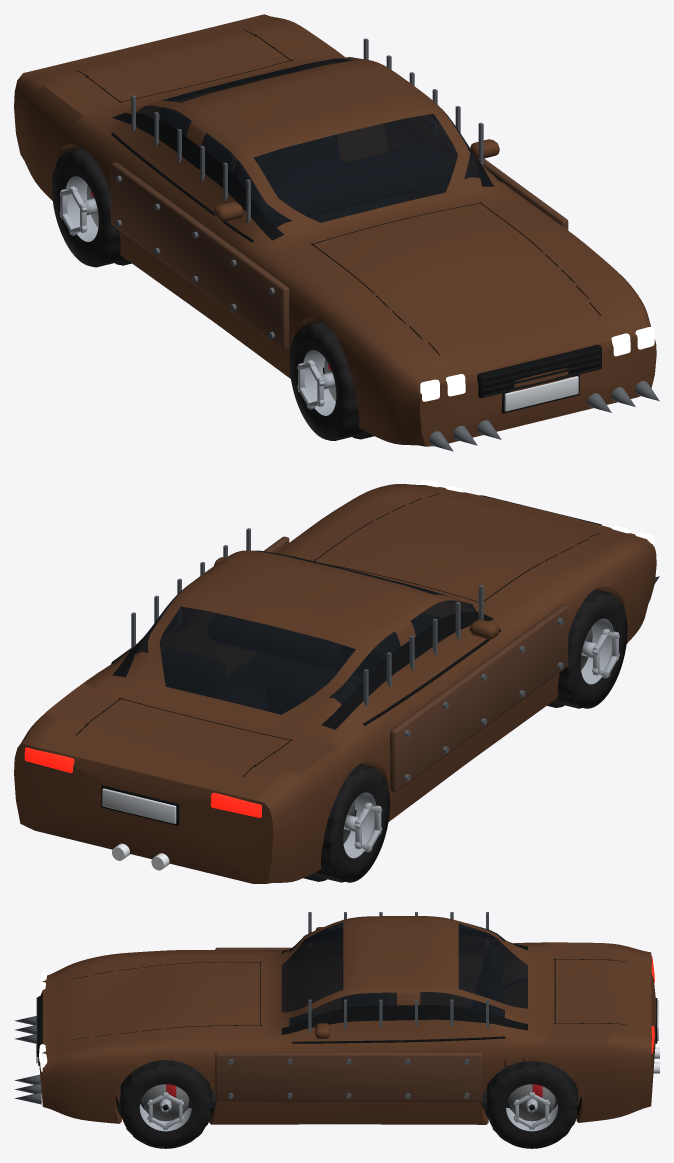
Rendered from armored-muscle.glb.
3 renders of one model, top to bottom at view 1: azimuth 30°, elevation 25°; view 2: azimuth 150°, elevation 25°; view 3: azimuth 270°, elevation 25°, orthographic. The views are drawn at different scales.
Visible parts, largest first — view 1: Body, WheelFL, WheelRL; view 2: Body, WheelRL, WheelFL; view 3: Body, WheelFR, WheelRR.
Boxes of the visible parts, bbox=[...] form: Body: bbox=[14, 14, 659, 451]; WheelFL: bbox=[289, 320, 367, 440]; WheelRL: bbox=[52, 147, 126, 267]; Body: bbox=[14, 480, 659, 883]; WheelRL: bbox=[310, 763, 389, 882]; WheelFL: bbox=[552, 589, 627, 708]; Body: bbox=[14, 912, 659, 1124]; WheelFR: bbox=[119, 1060, 211, 1148]; WheelRR: bbox=[486, 1061, 578, 1148].
Bounding box in the file's own units: 2.13 × 1.34 × 5.15.
